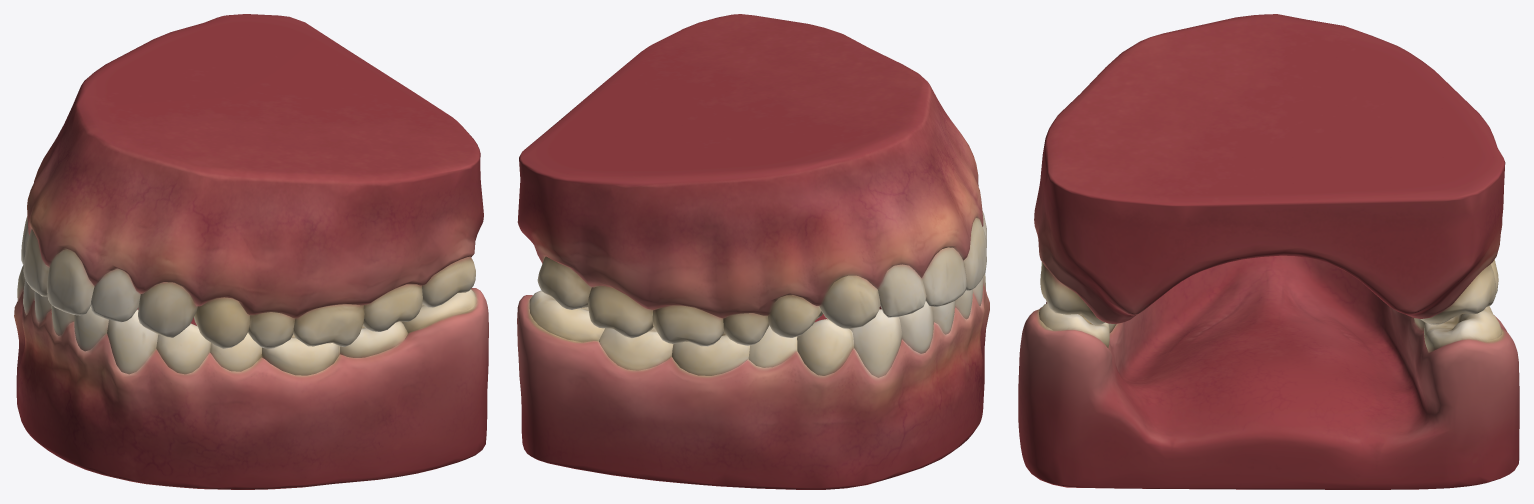
File: teeth.glb
3 renders of one model, left to right at view 1: azimuth 30°, elevation 25°; view 2: azimuth 150°, elevation 25°; view 3: azimuth 270°, elevation 25°, orthographic. The views are drawn at different scales.
Parts seen in each view (by area): view 1: Top_jaw_KP, Bottom_jaw_LP; view 2: Top_jaw_KP, Bottom_jaw_LP; view 3: Top_jaw_KP, Bottom_jaw_LP.
Boxes of the visible parts, x1,y1,x2,y2 form: Top_jaw_KP: (21, 14, 483, 348); Bottom_jaw_LP: (14, 265, 488, 489); Top_jaw_KP: (517, 14, 986, 346); Bottom_jaw_LP: (517, 273, 989, 489); Top_jaw_KP: (1034, 14, 1505, 325); Bottom_jaw_LP: (1018, 255, 1519, 489).
Size of the model in its own units: 1.04 by 0.8187 by 1.15.
Materials: 2 (2 with a texture image).
